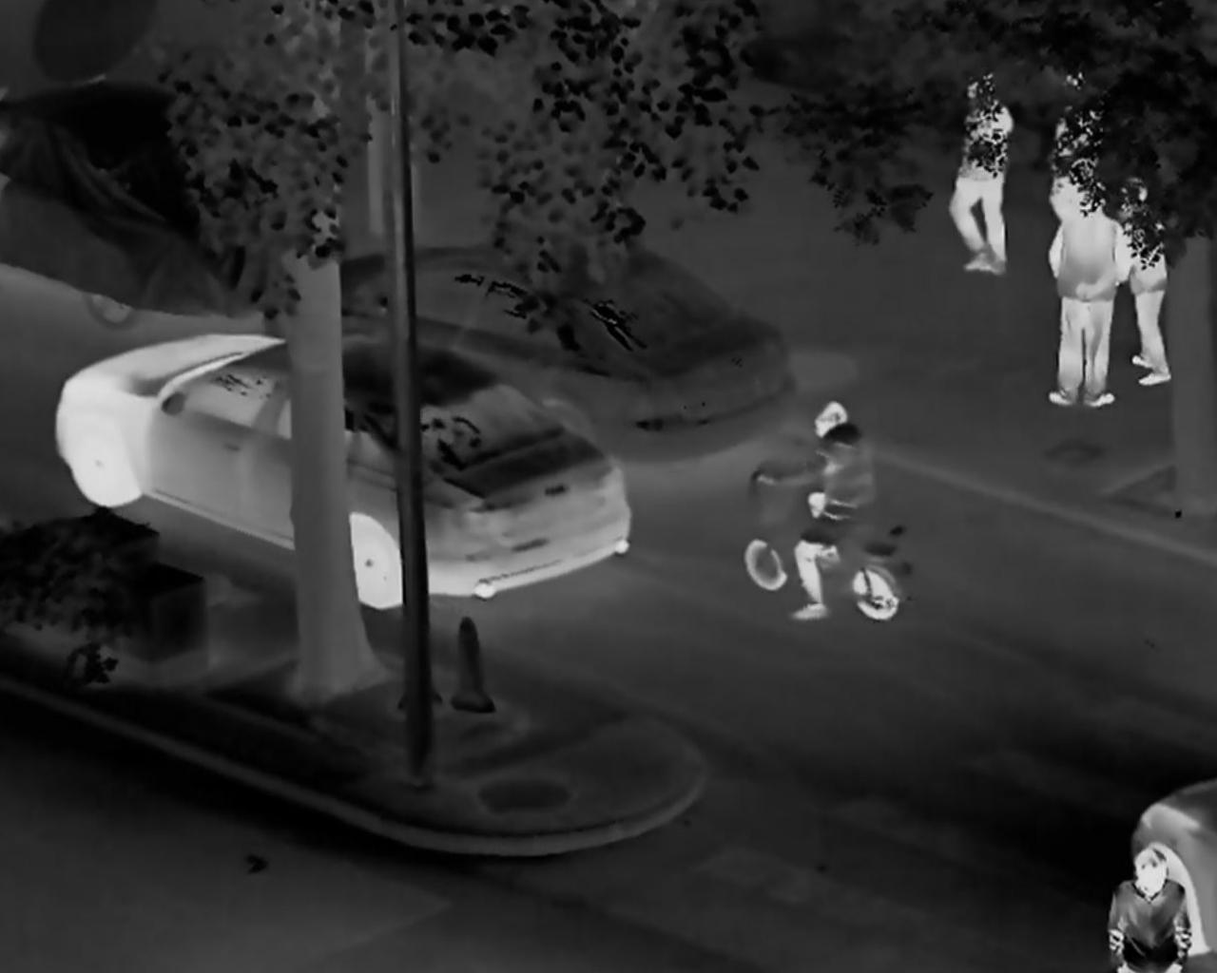person: (755, 399, 873, 626), (1047, 178, 1118, 410), (952, 65, 1011, 279), (1104, 851, 1195, 973), (1125, 175, 1174, 388)
